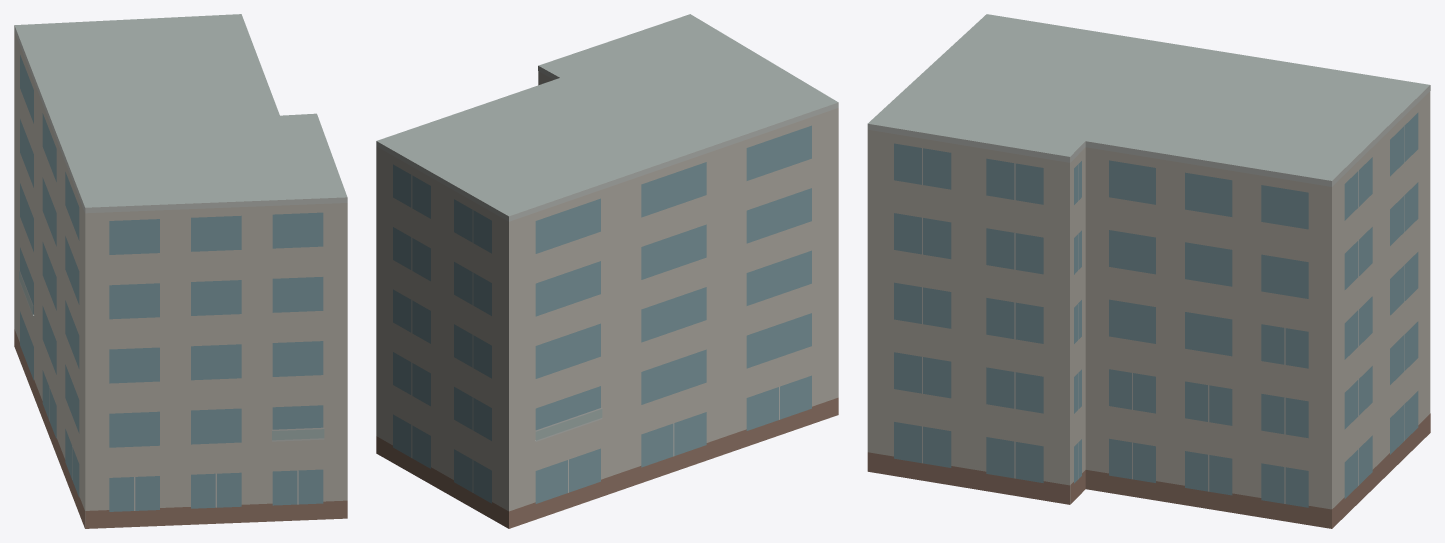
File: survey-upis-32999602.glb
3 renders of one model, left to right at view 1: azimuth 30°, elevation 25°; view 2: azimuth 150°, elevation 25°; view 3: azimuth 270°, elevation 25°, orthographic. The views are drawn at different scales.
Visible parts, largest first — view 1: survey-upis-32999602.tmp; view 2: survey-upis-32999602.tmp; view 3: survey-upis-32999602.tmp.
Part boxes in pixels (x1,y1,x2,y2): survey-upis-32999602.tmp: (14, 14, 347, 528); survey-upis-32999602.tmp: (376, 14, 838, 528); survey-upis-32999602.tmp: (867, 14, 1430, 528).
Bounding box in the file's own units: 14.62 × 14.2 × 20.83.
